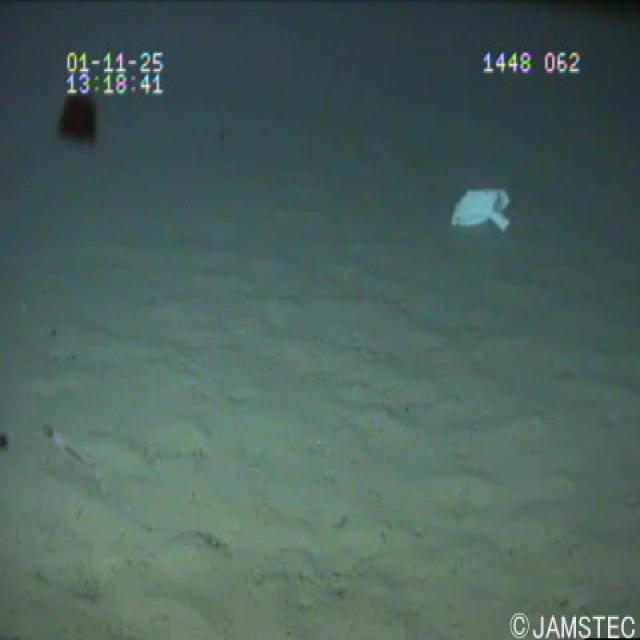plastic: (439, 169, 517, 252)
